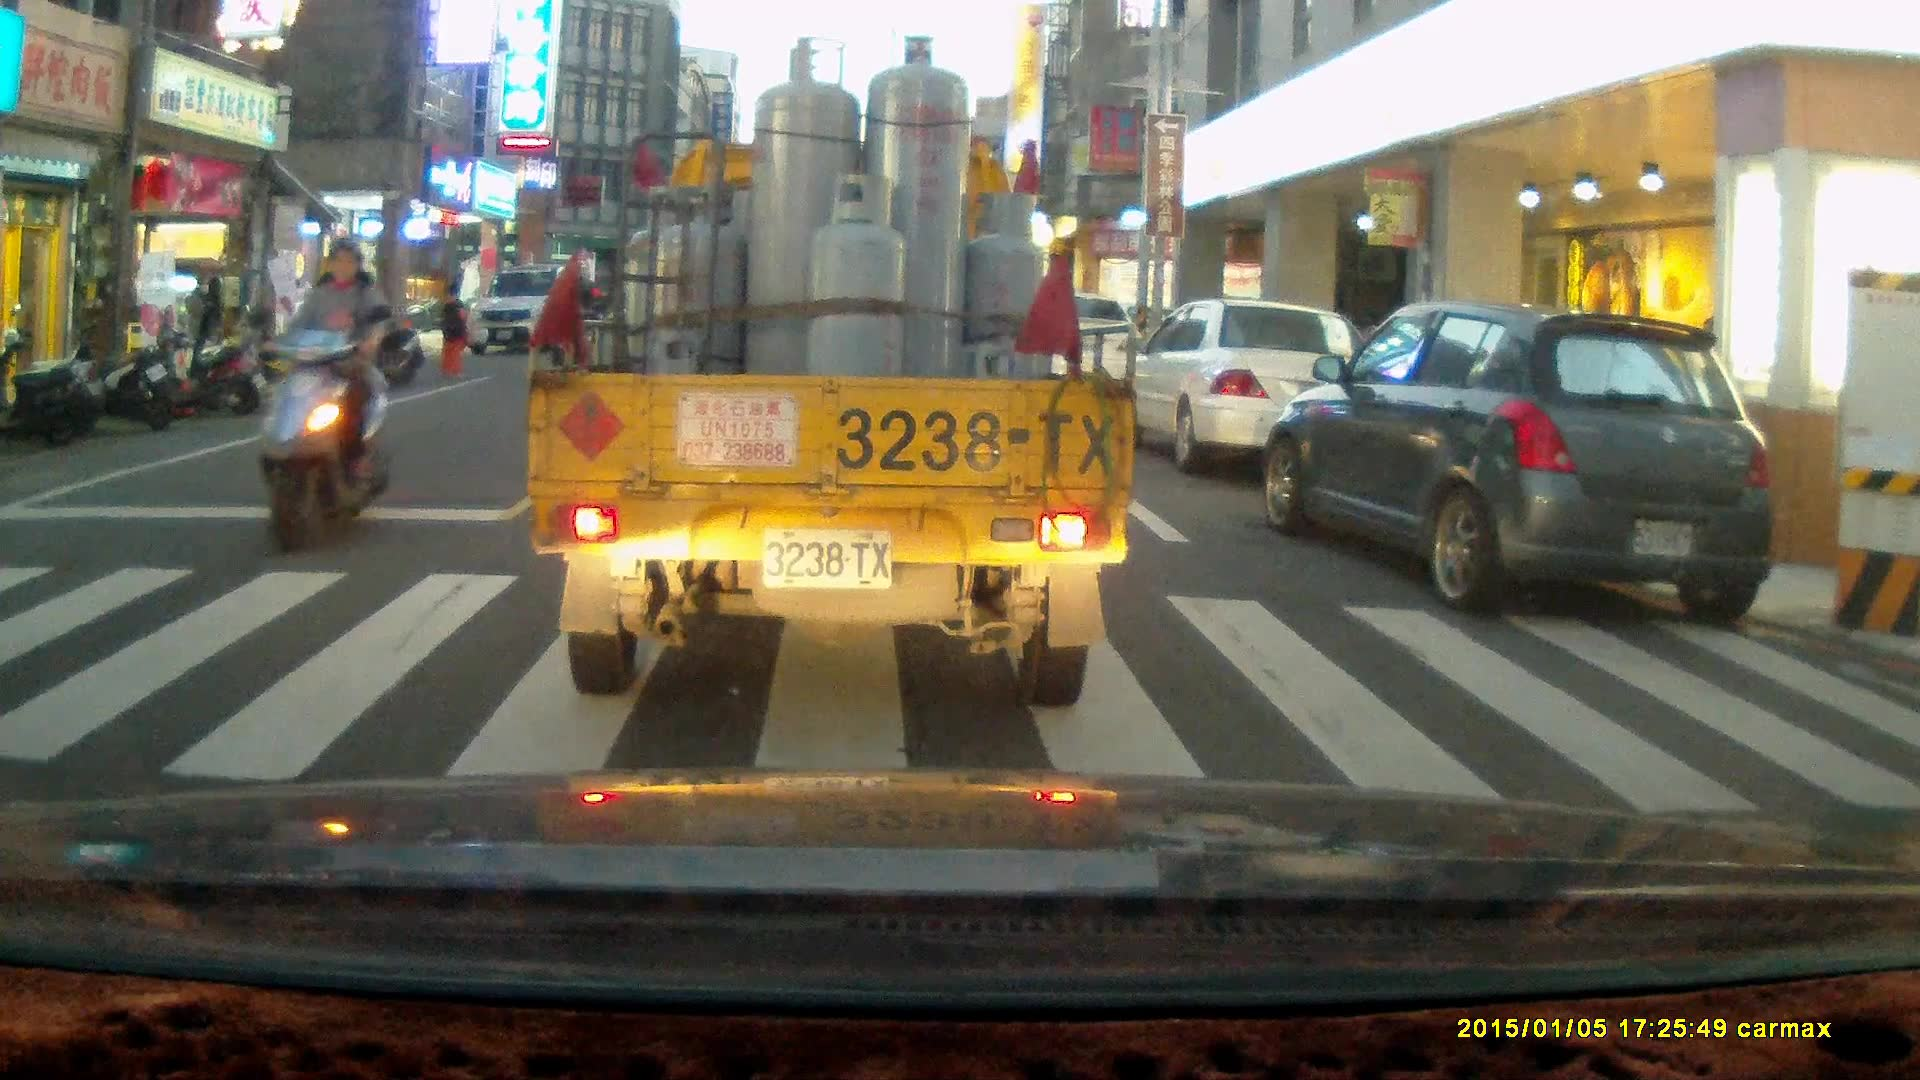pedestrian: (435, 276, 479, 376), (184, 274, 217, 380)
rider: (251, 231, 396, 556)
vehicle: (527, 61, 1132, 711), (1258, 299, 1777, 624), (1131, 300, 1383, 478), (1026, 295, 1160, 413), (465, 269, 584, 361)
